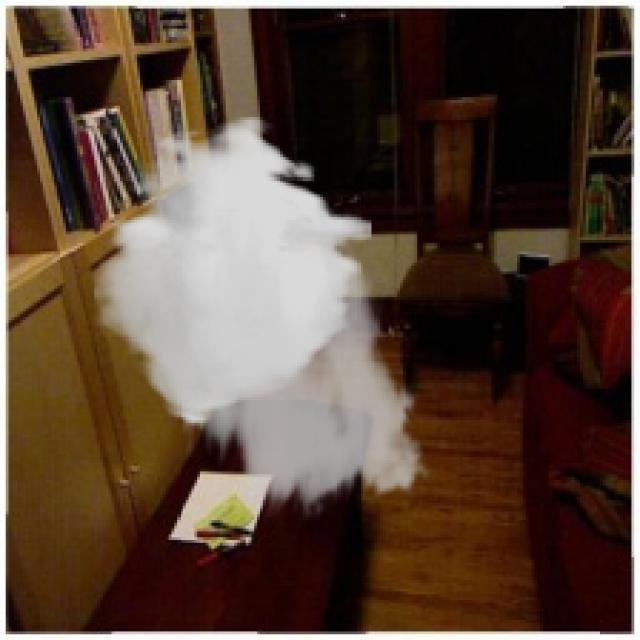Smoke: (94, 114, 437, 520)
